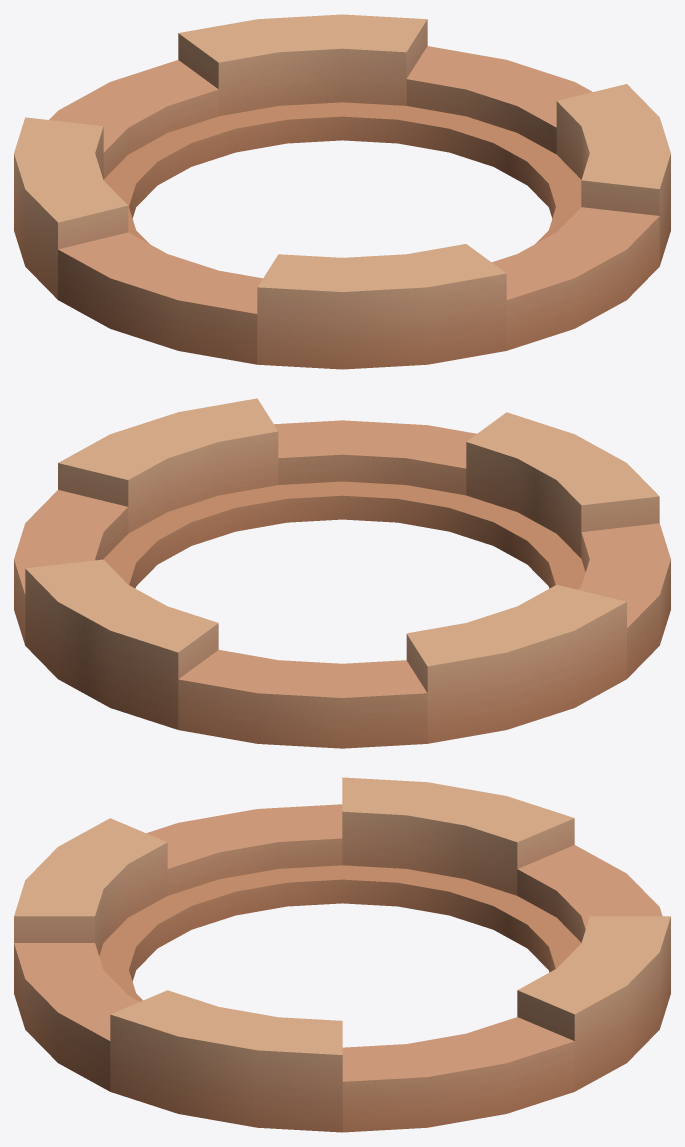
Rendered from tower-top.glb.
3 views of the same model, one above another, from view 1: azimuth 30°, elevation 25°; view 2: azimuth 150°, elevation 25°; view 3: azimuth 270°, elevation 25° (orthographic).
Parts seen in each view (by area): view 1: tower-top; view 2: tower-top; view 3: tower-top.
Boxes of the visible parts, <box> form: tower-top: <box>14,14,670,369</box>; tower-top: <box>14,398,670,748</box>; tower-top: <box>14,777,670,1132</box>.
Bounding box in the file's own units: 1 × 0.13 × 1.
1 material, 1 textured.
